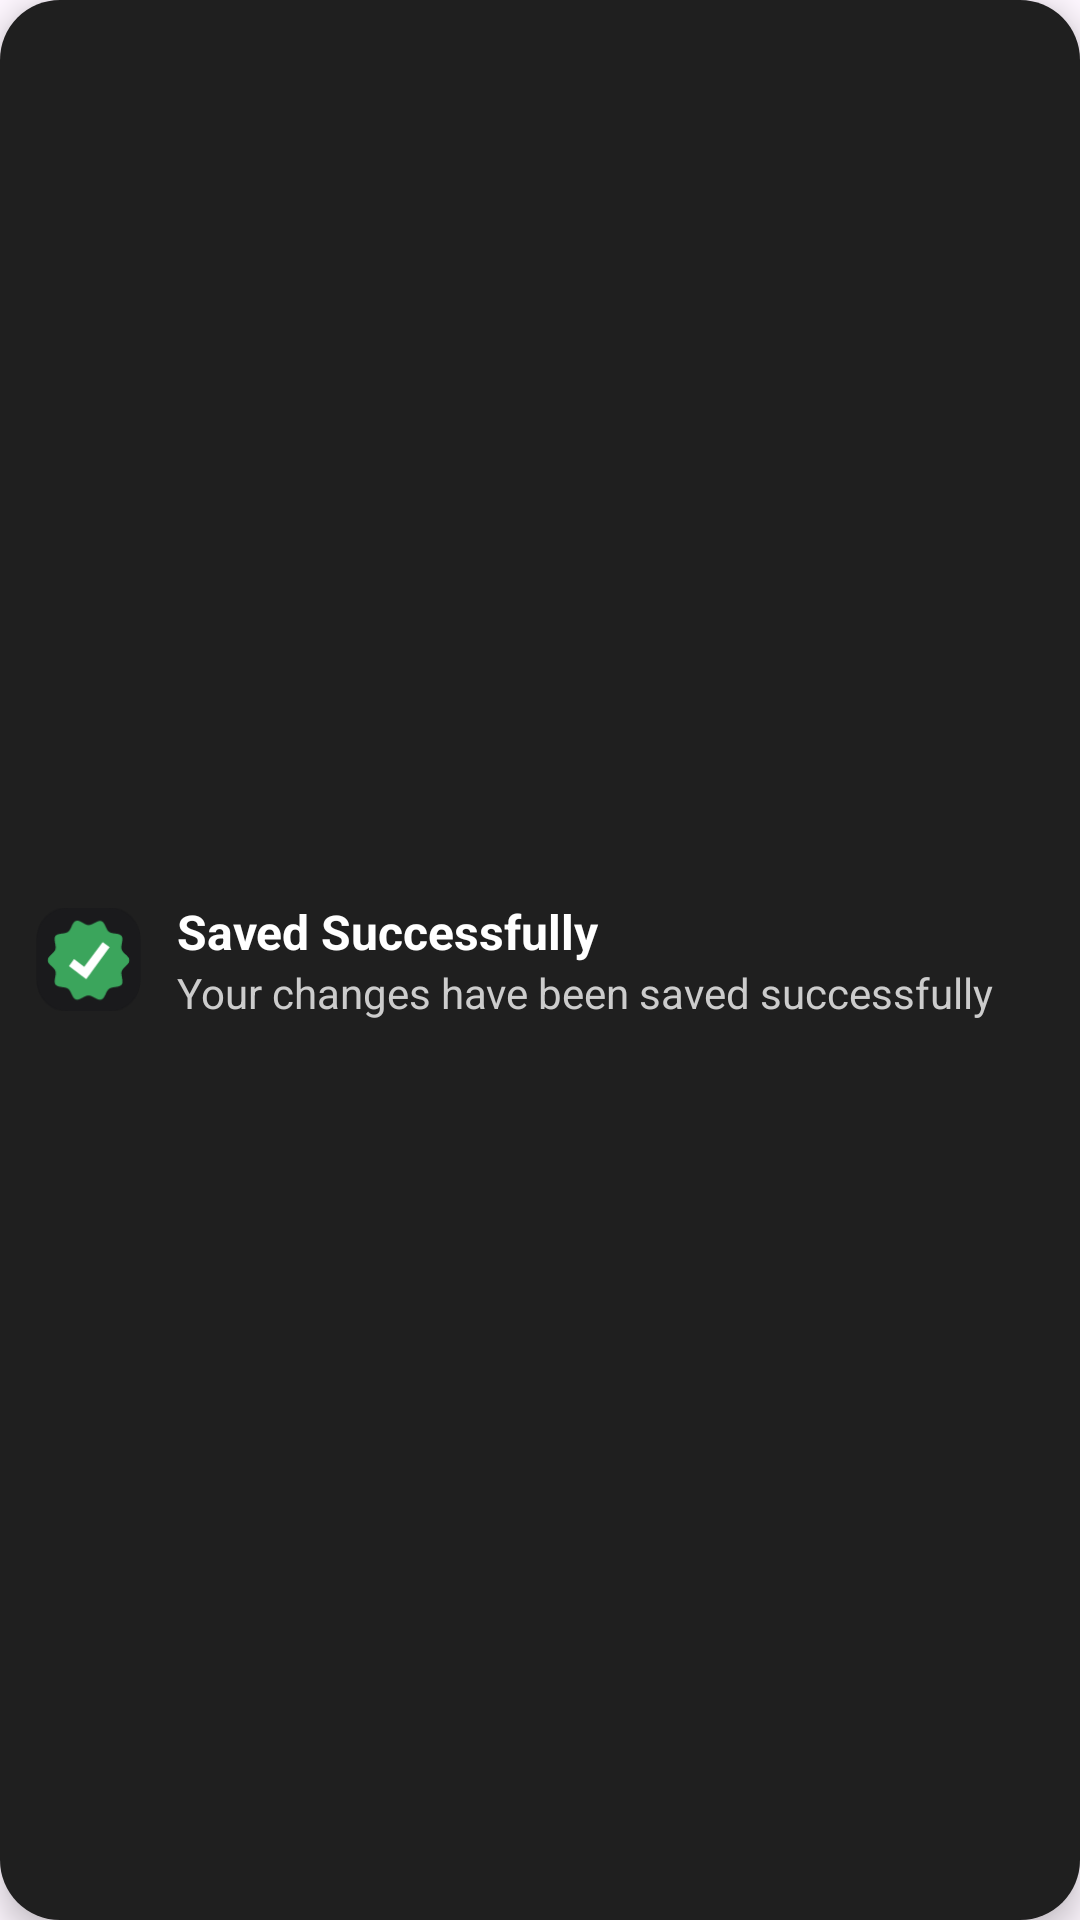

Icons on this 1080px x 1920px Android screen, each with the point to tap as point (x, y):
verified server: point (89, 960)
